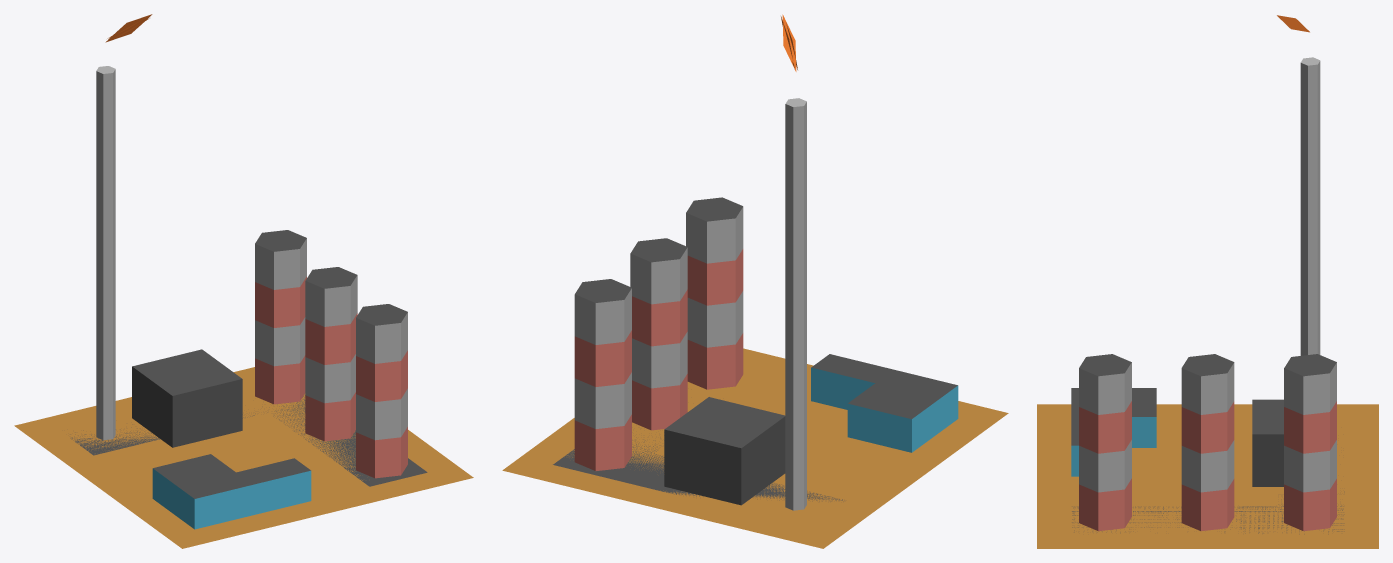
The model's file is refinery_towers01.gltf.
3 renders of one model, left to right at view 1: azimuth 30°, elevation 25°; view 2: azimuth 150°, elevation 25°; view 3: azimuth 270°, elevation 25°, orthographic. The views are drawn at different scales.
Parts seen in each view (by area): view 1: 0_Ground, 1_ColumnPlain, 1_ColumnColor, 1_Machinery, 1_GasTower, 2_Roof, 1_Offices, 1_GroundPaved; view 2: 0_Ground, 1_ColumnPlain, 1_ColumnColor, 1_Machinery, 1_GasTower, 2_Roof, 1_Offices, 1_GroundPaved; view 3: 0_Ground, 1_ColumnColor, 1_ColumnPlain, 1_GasTower, 2_Roof, 1_Machinery, 1_Offices, 1_GroundPaved.
Boxes of the visible parts, x1=… form: 0_Ground: x1=14, y1=367, x2=473, y2=548; 1_ColumnPlain: x1=255, y1=238, x2=407, y2=440; 1_ColumnColor: x1=255, y1=276, x2=407, y2=478; 1_Machinery: x1=132, y1=349, x2=242, y2=447; 1_GasTower: x1=96, y1=66, x2=115, y2=440; 2_Roof: x1=153, y1=230, x2=407, y2=498; 1_Offices: x1=152, y1=468, x2=311, y2=529; 1_GroundPaved: x1=70, y1=395, x2=427, y2=486; 0_Ground: x1=502, y1=348, x2=1008, y2=548; 1_ColumnPlain: x1=574, y1=207, x2=743, y2=428; 1_ColumnColor: x1=574, y1=249, x2=743, y2=470; 1_Machinery: x1=664, y1=397, x2=785, y2=505; 1_GasTower: x1=785, y1=98, x2=806, y2=510; 2_Roof: x1=575, y1=197, x2=957, y2=419; 1_Offices: x1=811, y1=367, x2=958, y2=452; 1_GroundPaved: x1=553, y1=437, x2=844, y2=501; 0_Ground: x1=1037, y1=404, x2=1378, y2=548; 1_ColumnColor: x1=1079, y1=401, x2=1336, y2=531; 1_ColumnPlain: x1=1079, y1=362, x2=1336, y2=492; 1_GasTower: x1=1300, y1=57, x2=1320, y2=355; 2_Roof: x1=1071, y1=354, x2=1336, y2=445; 1_Machinery: x1=1252, y1=399, x2=1283, y2=486; 1_Offices: x1=1071, y1=417, x2=1156, y2=476; 1_GroundPaved: x1=1072, y1=491, x2=1344, y2=534.
Bounding box in the file's own units: 100 × 140 × 100.
